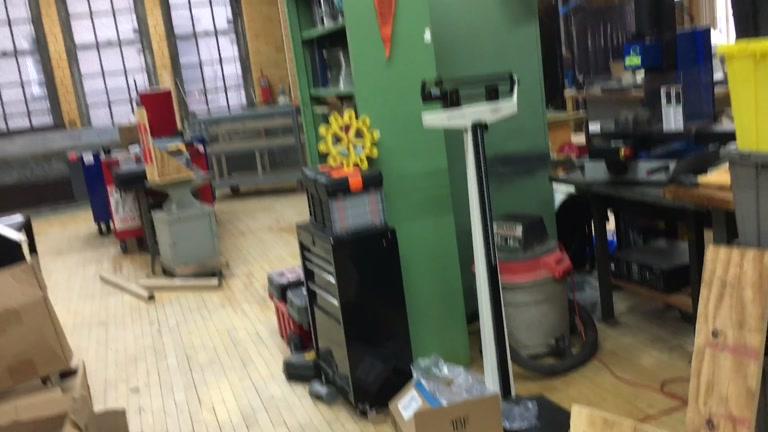gear: (316, 107, 381, 172)
